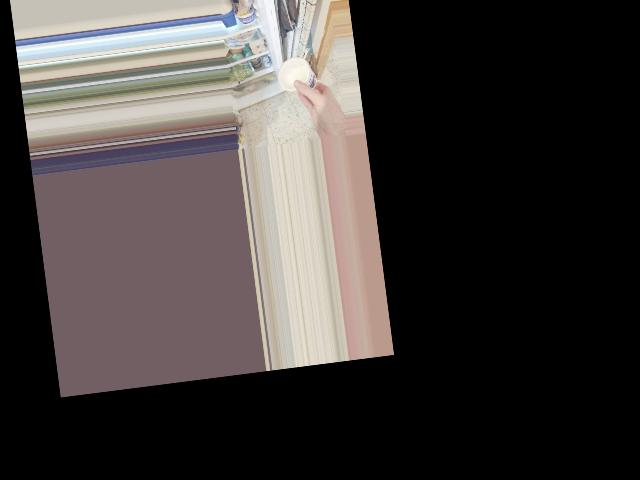cotage: (275, 52, 320, 95)
